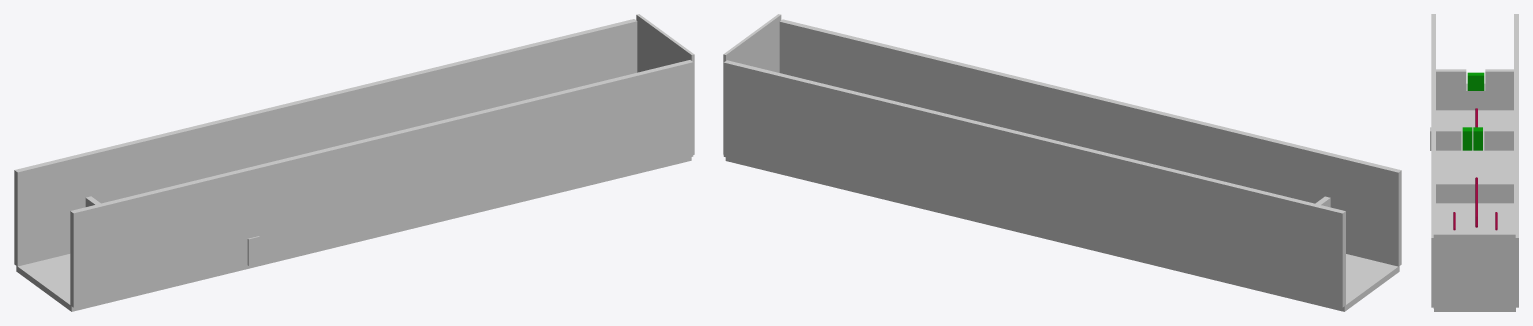
Rendered from levelTest_01_Tutorial.fbx.
3 renders of one model, left to right at view 1: azimuth 30°, elevation 25°; view 2: azimuth 150°, elevation 25°; view 3: azimuth 270°, elevation 25°, orthographic. The views are drawn at different scales.
Parts seen in each view (by area): view 1: Cube50, Cube51, Cube63, Cube64; view 2: Cube51, Cube50, Cube63, Cube64; view 3: Cube63, Cube64, Cube54, Cube59, Cube51, Cube50, Cube57, Cube62, Cube58, Cube60, Cube61, Cube55 (+2 smaller).
Part boxes in pixels (x1,y1,x2,y2): Cube50: [70, 60, 693, 307]; Cube51: [14, 19, 637, 266]; Cube63: [16, 157, 691, 311]; Cube64: [636, 14, 694, 154]; Cube51: [723, 60, 1345, 307]; Cube50: [779, 19, 1401, 266]; Cube63: [725, 157, 1399, 311]; Cube64: [723, 14, 781, 154]; Cube63: [1434, 83, 1515, 311]; Cube64: [1433, 233, 1515, 308]; Cube54: [1436, 180, 1513, 203]; Cube59: [1436, 89, 1513, 110]; Cube51: [1514, 14, 1518, 307]; Cube50: [1431, 14, 1435, 307]; Cube57: [1484, 127, 1513, 150]; Cube62: [1436, 69, 1466, 90]; Cube58: [1430, 127, 1461, 150]; Cube60: [1485, 69, 1513, 90]; Cube61: [1467, 72, 1484, 90]; Cube55: [1462, 127, 1472, 150].
Size of the model in its own units: 5525 by 922 by 897.
